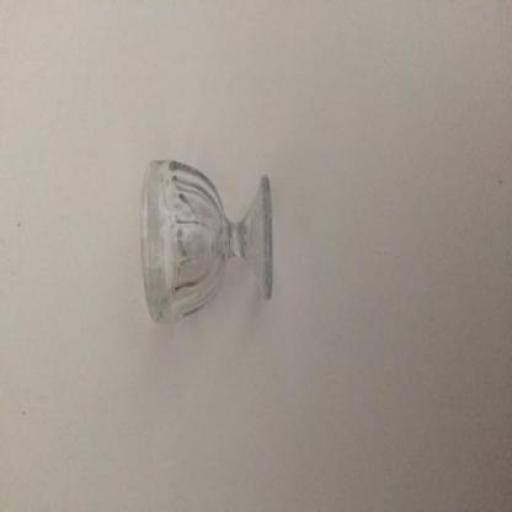glass: (141, 160, 274, 322)
